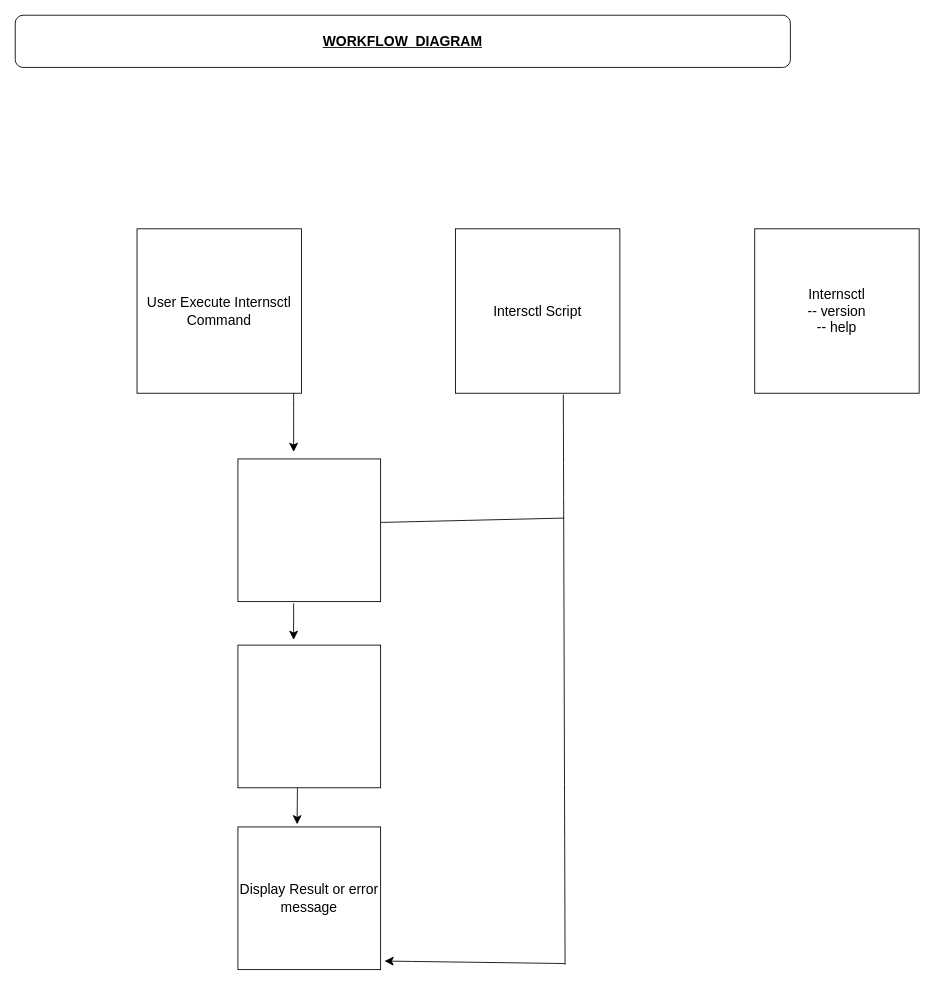
This 934x985 diagram has some shape labels left out. The centre of each missing label's shape, as x and y in pixels:
"Decision: Command Type" belongs at (309,530).
"Execute Command Logic" belongs at (309,716).
